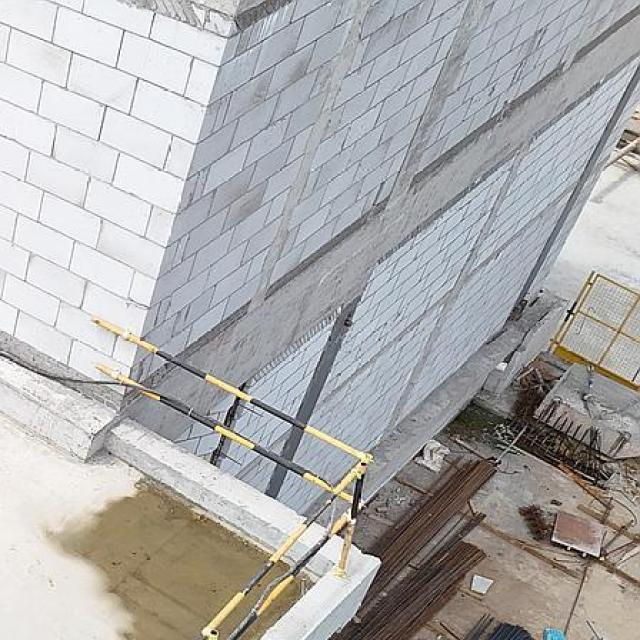edge_guardrail: (88, 314, 376, 640)
